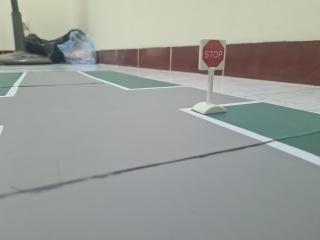stop: (197, 33, 229, 76)
